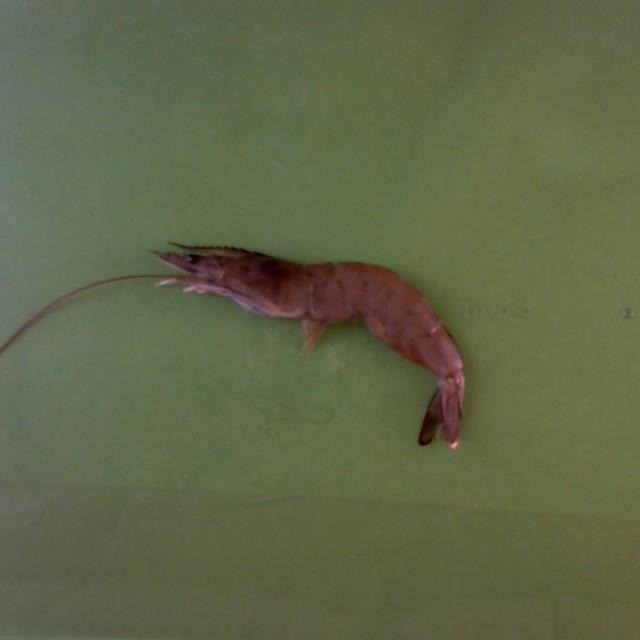shrimp: (156, 245, 466, 450)
